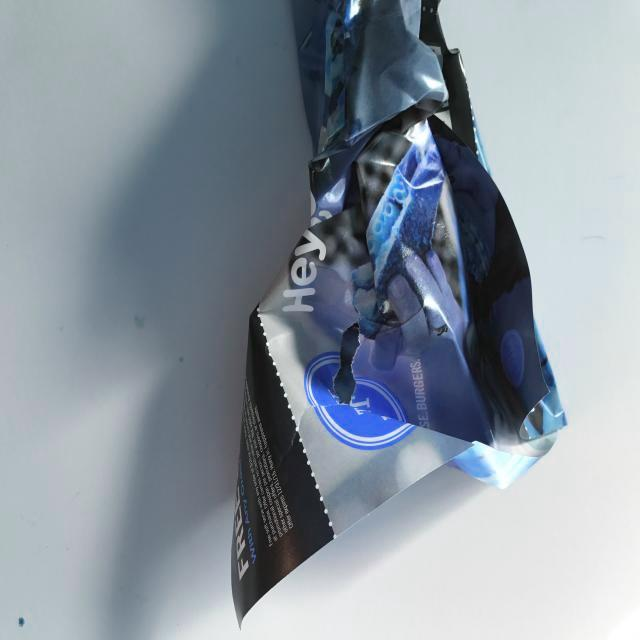paper: (199, 0, 574, 640)
